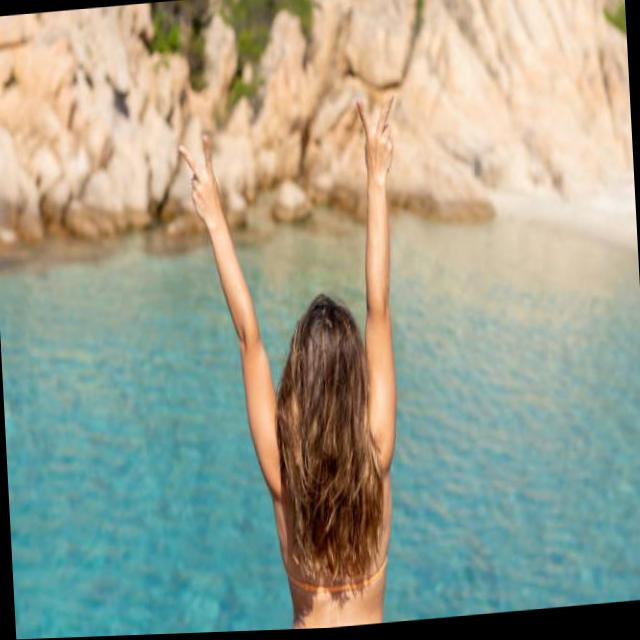no helmet: (275, 293, 373, 446)
